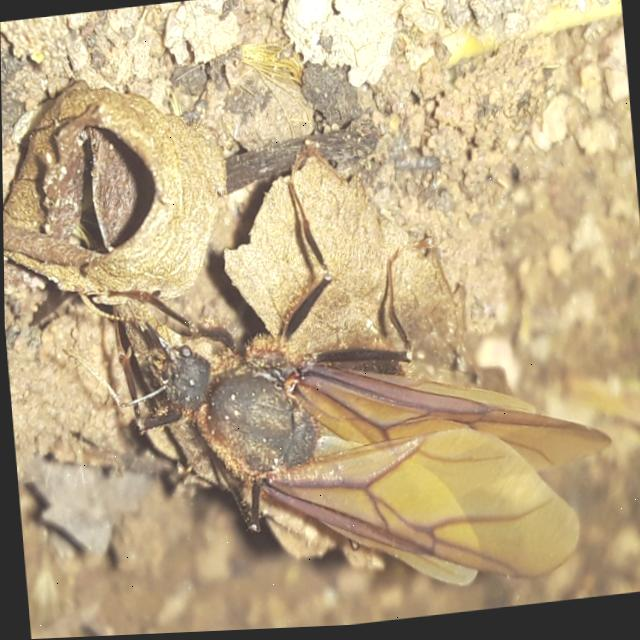Alive-Male-Alate: (60, 124, 622, 632)
